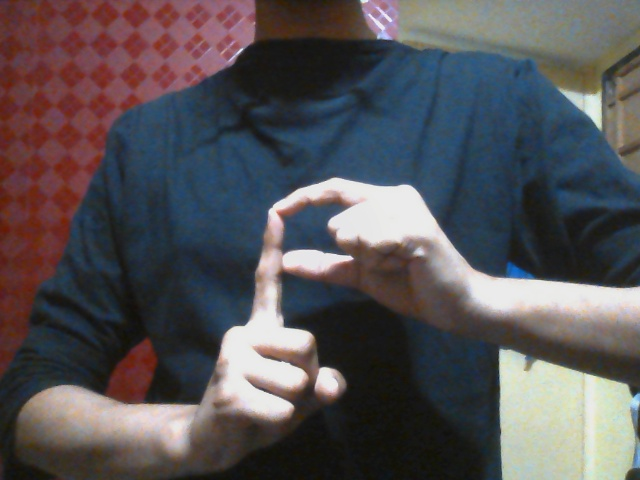P: (202, 178, 449, 451)
